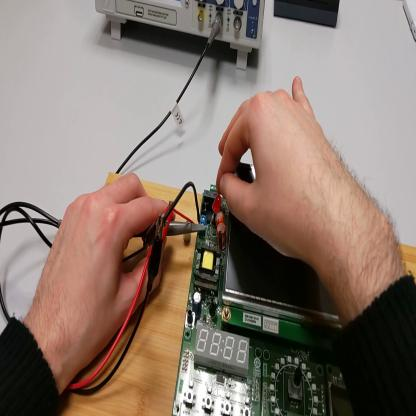hand: (34, 173, 164, 372), (215, 77, 341, 266)
low voltage board: (163, 165, 354, 416)
oscilloscope: (97, 2, 265, 72)
oscilloscope probe tip: (156, 222, 204, 238)
working area: (57, 172, 416, 415)
